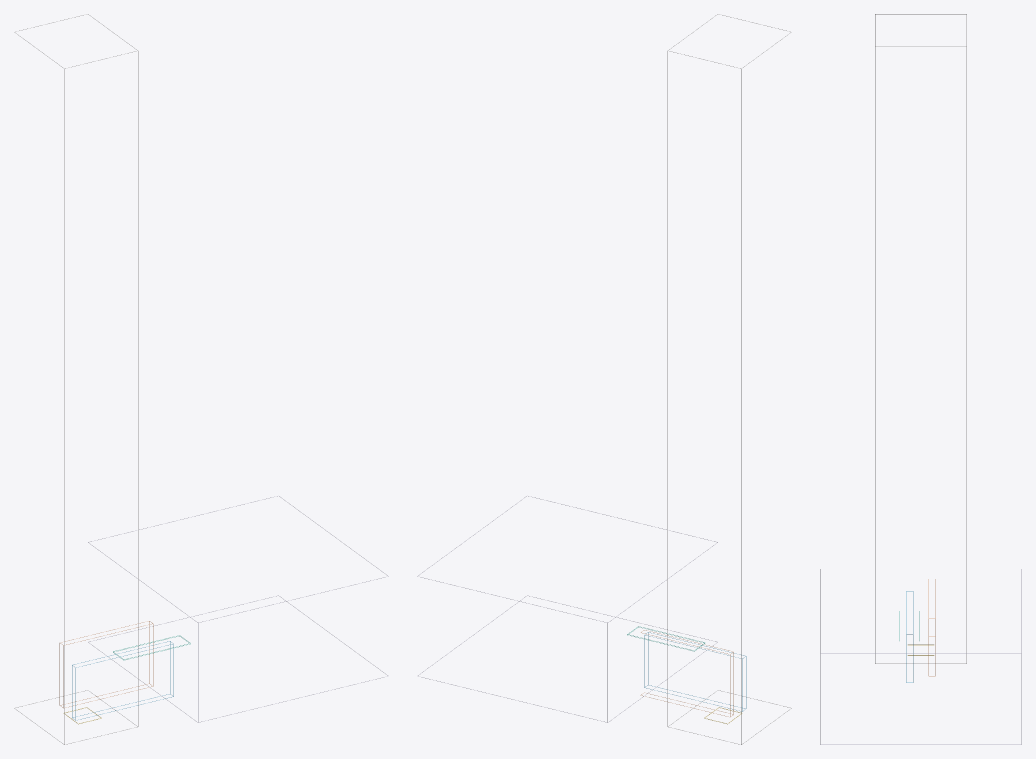
File: FMP_ThemeCenter_Bridge_Registration_Controls_v001.glb
3 views of the same model, side by side, from view 1: azimuth 30°, elevation 25°; view 2: azimuth 150°, elevation 25°; view 3: azimuth 270°, elevation 25° (orthographic). The views are drawn at different scales.
Parts seen in each view (by area): view 1: REFERENCE_ONLY__TRYLON_RUNTIME_EXTERIOR_SHELL, REFERENCE_ONLY__PERISPHERE_RUNTIME_LOWER_SHELL; view 2: REFERENCE_ONLY__TRYLON_RUNTIME_EXTERIOR_SHELL, REFERENCE_ONLY__PERISPHERE_RUNTIME_LOWER_SHELL; view 3: REFERENCE_ONLY__TRYLON_RUNTIME_EXTERIOR_SHELL, REFERENCE_ONLY__PERISPHERE_RUNTIME_LOWER_SHELL.
Boxes of the visible parts, box(x1,y1,x2,y2) form: REFERENCE_ONLY__TRYLON_RUNTIME_EXTERIOR_SHELL: box(14, 14, 138, 744); REFERENCE_ONLY__PERISPHERE_RUNTIME_LOWER_SHELL: box(88, 496, 388, 722); REFERENCE_ONLY__TRYLON_RUNTIME_EXTERIOR_SHELL: box(667, 14, 791, 744); REFERENCE_ONLY__PERISPHERE_RUNTIME_LOWER_SHELL: box(417, 496, 717, 722); REFERENCE_ONLY__TRYLON_RUNTIME_EXTERIOR_SHELL: box(875, 14, 966, 663); REFERENCE_ONLY__PERISPHERE_RUNTIME_LOWER_SHELL: box(820, 569, 1021, 744).
Bounding box in the file's own units: 84.75 × 186 × 54.91.
